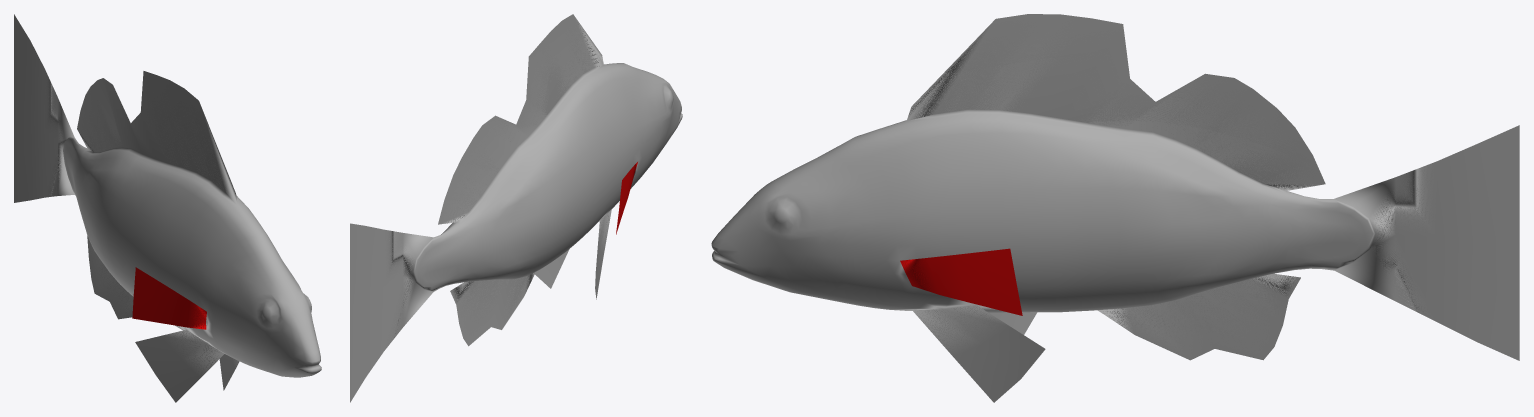
The model's file is Terapontidae_A.fbx.
The picture shows the model from 3 angles, left to right: view 1: azimuth 30°, elevation 25°; view 2: azimuth 150°, elevation 25°; view 3: azimuth 270°, elevation 25°; orthographic projection. The views are drawn at different scales.
Parts seen in each view (by area): view 1: Terapontidae_A_LOD0; view 2: Terapontidae_A_LOD0; view 3: Terapontidae_A_LOD0.
Part boxes in pixels (x1,y1,x2,y2): Terapontidae_A_LOD0: (14, 14, 321, 402); Terapontidae_A_LOD0: (350, 14, 682, 402); Terapontidae_A_LOD0: (711, 14, 1519, 402).
Size of what is drawn, in the model's own units: 0.2139 by 0.5398 by 1.06.
